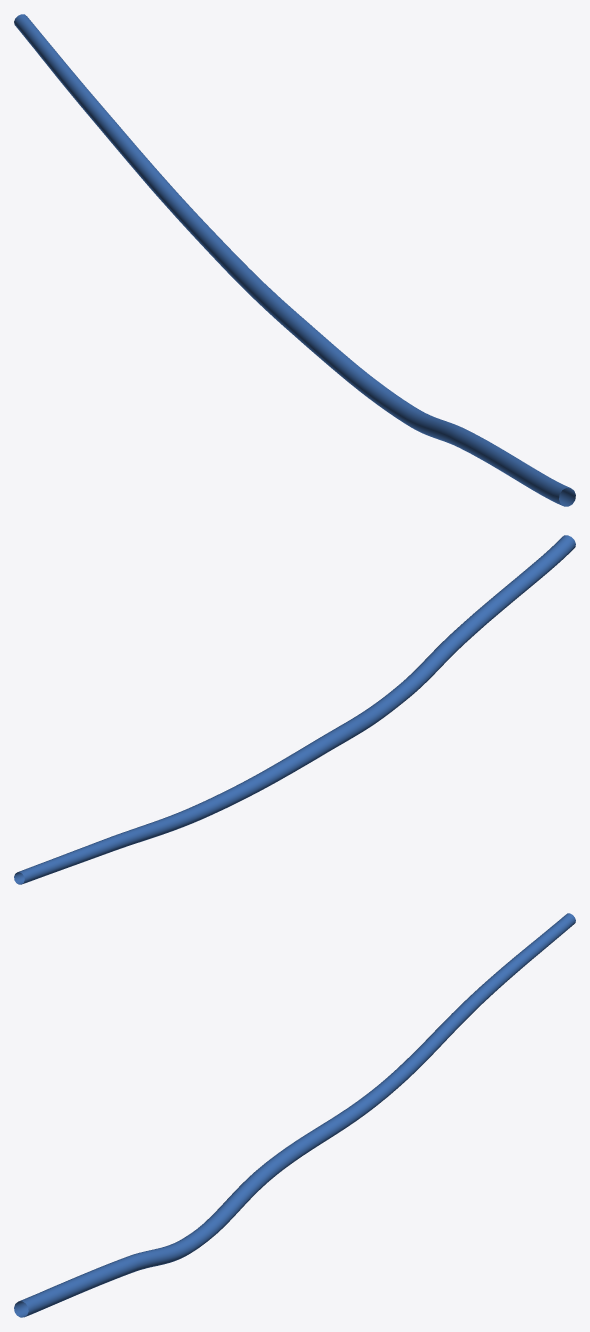
3 renders of one model, top to bottom at view 1: azimuth 30°, elevation 25°; view 2: azimuth 150°, elevation 25°; view 3: azimuth 330°, elevation 25°, orthographic. The views are drawn at different scales.
Visible parts, largest first — view 1: 左侧腹壁上静脉; view 2: 左侧腹壁上静脉; view 3: 左侧腹壁上静脉.
Part boxes in pixels (bbox=[...]): 左侧腹壁上静脉: bbox=[14, 14, 575, 506]; 左侧腹壁上静脉: bbox=[14, 535, 575, 884]; 左侧腹壁上静脉: bbox=[14, 913, 575, 1317].
Bounding box in the file's own units: 0.0137 × 0.0211 × 0.2309.
